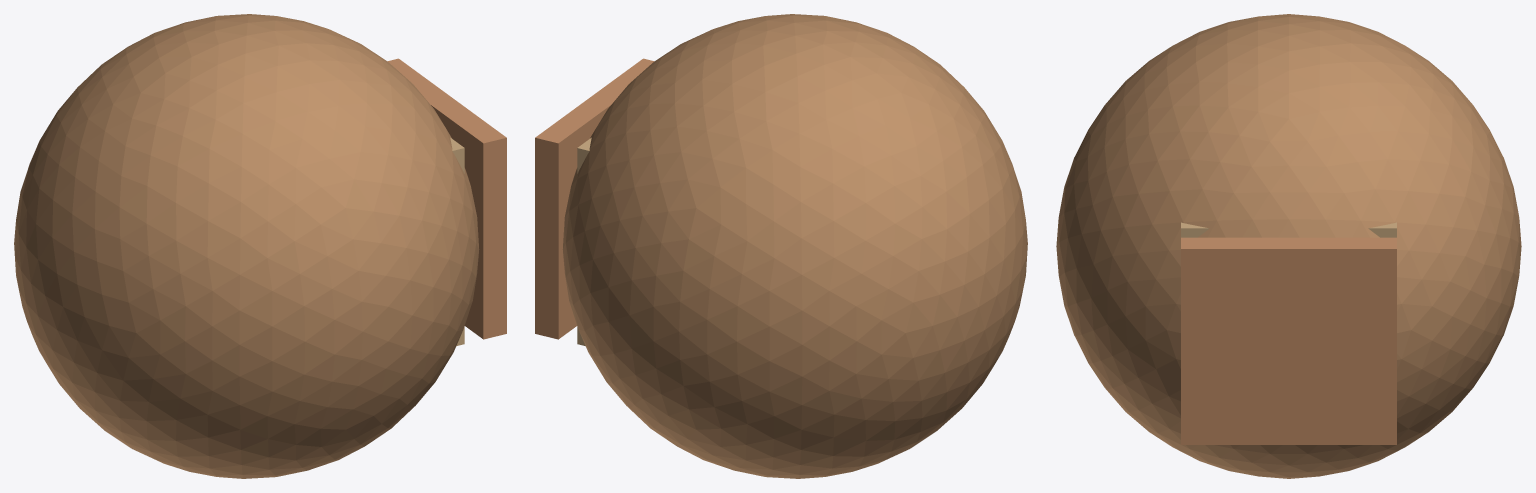
Rendered from earth_layers.glb.
3 renders of one model, left to right at view 1: azimuth 30°, elevation 25°; view 2: azimuth 150°, elevation 25°; view 3: azimuth 270°, elevation 25°, orthographic.
Parts seen in each view (by area): view 1: world; view 2: world; view 3: world.
Boxes of the visible parts, <box> form: world: <box>14,14,506,478</box>; world: <box>535,14,1027,478</box>; world: <box>1056,14,1521,478</box>.
Size of the model in its own units: 8.7 by 8.6 by 8.6.
